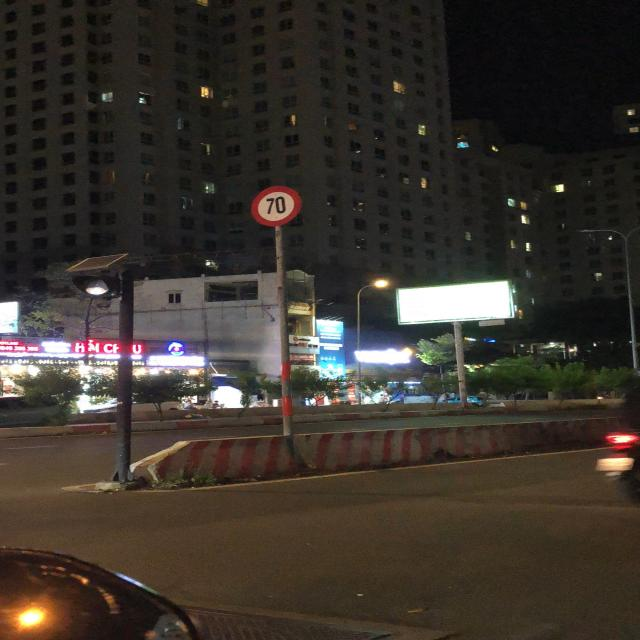Bien bao toc do toi da cho phep: (244, 181, 312, 226)
